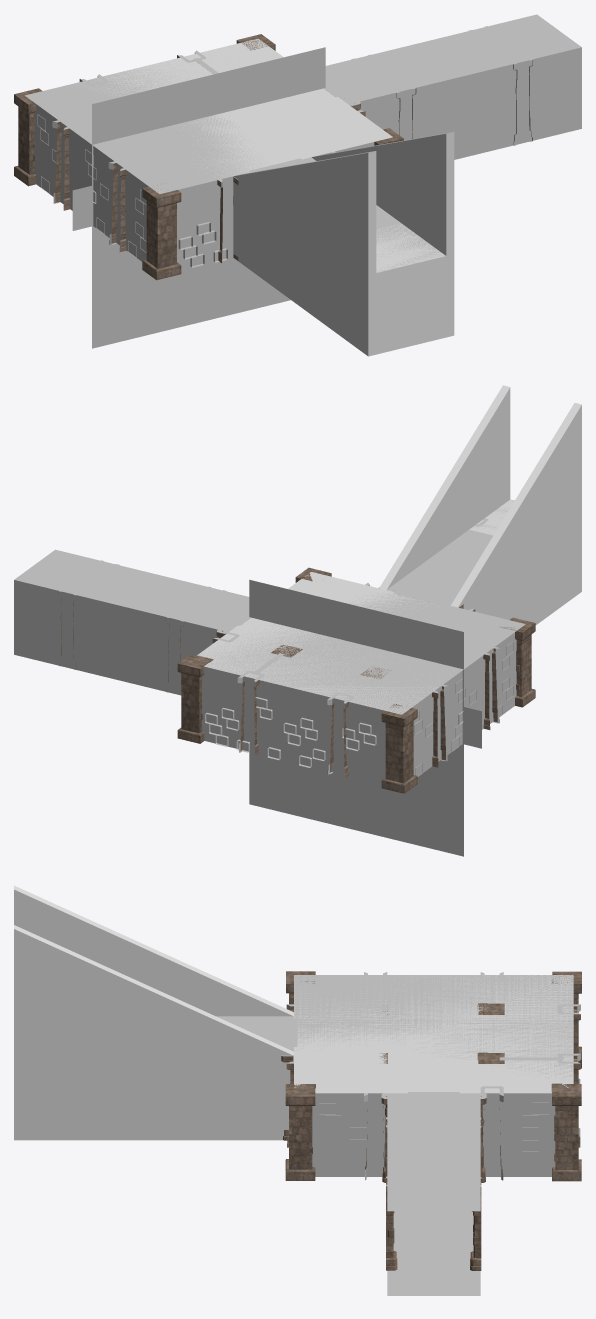
File: mockup.fbx
3 renders of one model, top to bottom at view 1: azimuth 30°, elevation 25°; view 2: azimuth 150°, elevation 25°; view 3: azimuth 270°, elevation 25°, orthographic. The views are drawn at different scales.
Visible parts, largest first — view 1: Plane.002, Hall_1, Base_Floor, Roof, Plane.001, Closed_Wall_2, Plane.003, Open_Wall_2, Hall_2, Plane.011; view 2: Plane.002, Hall_1, Roof, Base_Floor, Closed_Wall_1, Plane.001, Closed_Wall_2, Hall_2, Plane.011; view 3: Plane.002, Roof, Plane.001, Hall_1, Open_Wall_1, Hall_2, Closed_Wall_1, Open_Wall_2.
Part boxes in pixels (x1,y1,x2,y2): Plane.002: (233, 132, 454, 356); Hall_1: (325, 14, 581, 159); Base_Floor: (92, 47, 325, 348); Roof: (14, 34, 403, 280); Plane.001: (80, 38, 392, 191); Closed_Wall_2: (34, 104, 148, 261); Plane.003: (372, 224, 450, 354); Open_Wall_2: (177, 142, 374, 269); Hall_2: (243, 157, 445, 272); Plane.011: (72, 186, 93, 230); Plane.002: (379, 385, 581, 625); Hall_1: (14, 549, 249, 695); Roof: (177, 567, 535, 793); Base_Floor: (249, 579, 463, 856); Closed_Wall_1: (202, 666, 385, 783); Plane.001: (195, 572, 439, 714); Closed_Wall_2: (412, 632, 516, 776); Hall_2: (387, 500, 514, 605); Plane.011: (462, 707, 481, 748); Plane.002: (14, 885, 293, 1140); Roof: (285, 971, 581, 1181); Plane.001: (294, 975, 573, 1093); Hall_1: (386, 1093, 481, 1295); Open_Wall_1: (312, 1086, 555, 1182); Hall_2: (216, 1016, 293, 1051); Closed_Wall_1: (557, 1004, 580, 1147); Open_Wall_2: (280, 1004, 297, 1147).
Size of the model in its own units: 2500 by 1600 by 2435.
